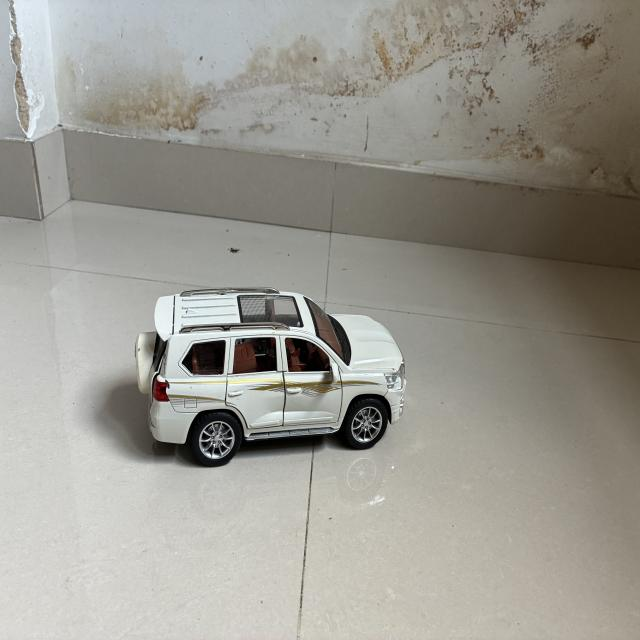jeep: (127, 284, 406, 468)
